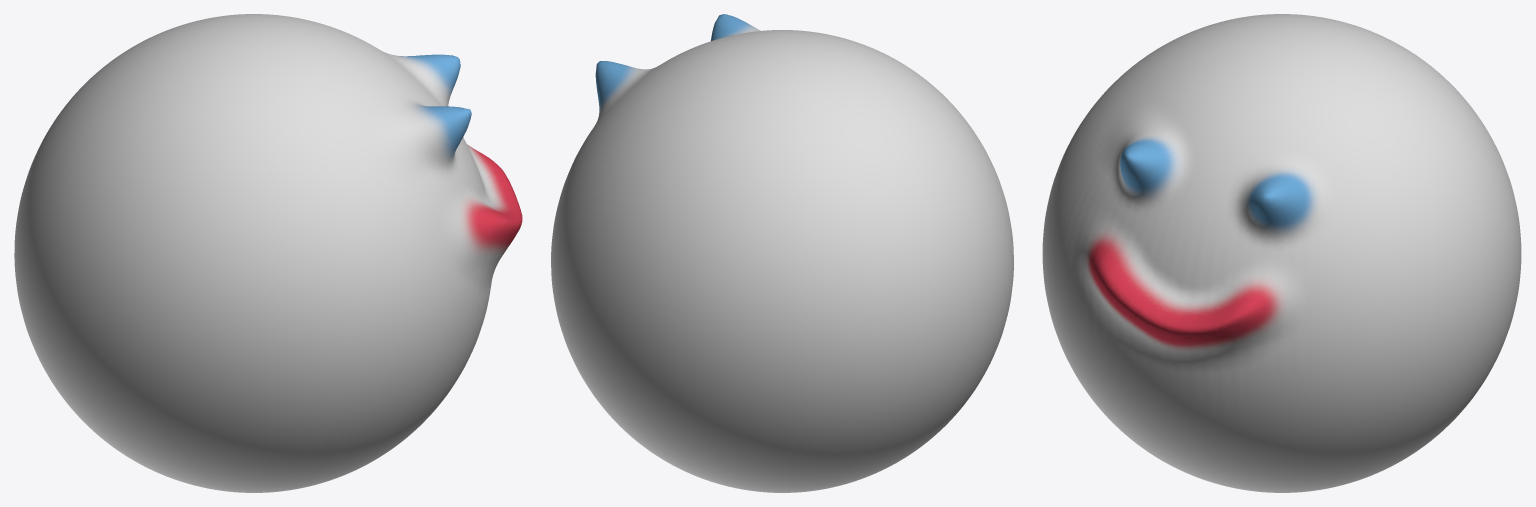
The picture shows the model from 3 angles, left to right: view 1: azimuth 30°, elevation 25°; view 2: azimuth 150°, elevation 25°; view 3: azimuth 270°, elevation 25°; orthographic projection. The views are drawn at different scales.
Visible parts, largest first — view 1: Sphere; view 2: Sphere; view 3: Sphere.
Boxes of the visible parts, x1,y1,x2,y2 form: Sphere: (14,14,522,492); Sphere: (551,14,1013,492); Sphere: (1042,14,1521,492).
Bounding box in the file's own units: 209 × 200 × 200.
